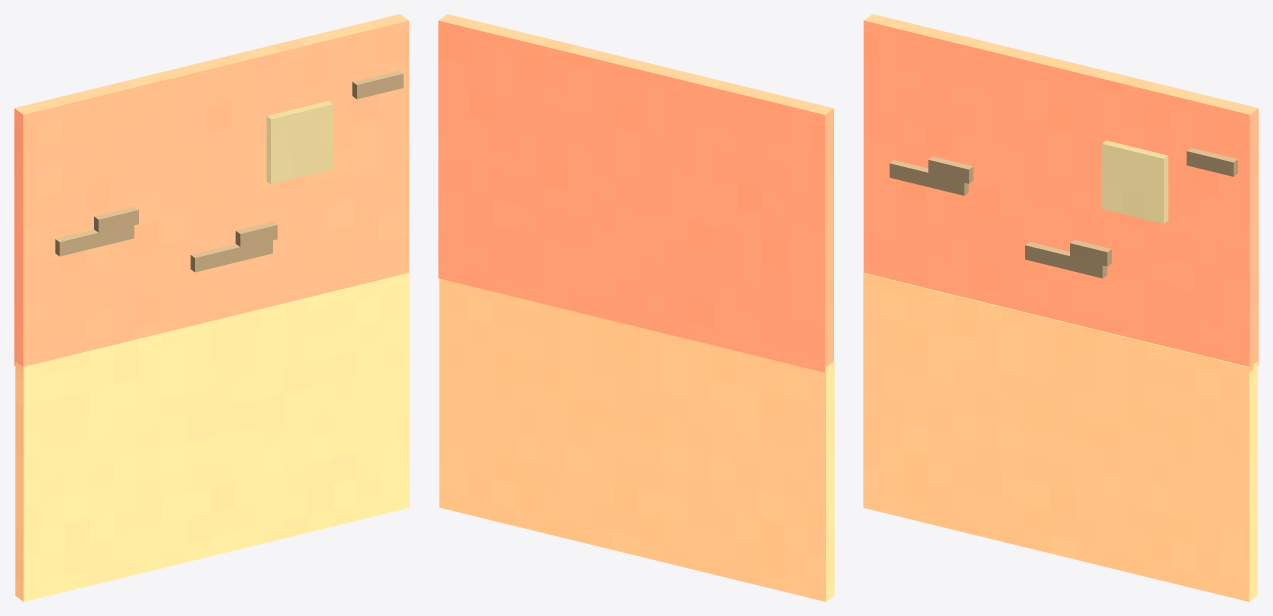
The model's file is Outdoor-light.glb.
3 views of the same model, side by side, from view 1: azimuth 30°, elevation 25°; view 2: azimuth 150°, elevation 25°; view 3: azimuth 330°, elevation 25° (orthographic).
Visible parts, largest first — view 1: Outdoor-light; view 2: Outdoor-light; view 3: Outdoor-light.
Part boxes in pixels (bbox=[...]): Outdoor-light: bbox=[14, 14, 409, 601]; Outdoor-light: bbox=[438, 14, 834, 601]; Outdoor-light: bbox=[863, 14, 1258, 601].
Bounding box in the file's own units: 1.24 × 1.5 × 0.0795.
Materials: 4 (4 with a texture image).
